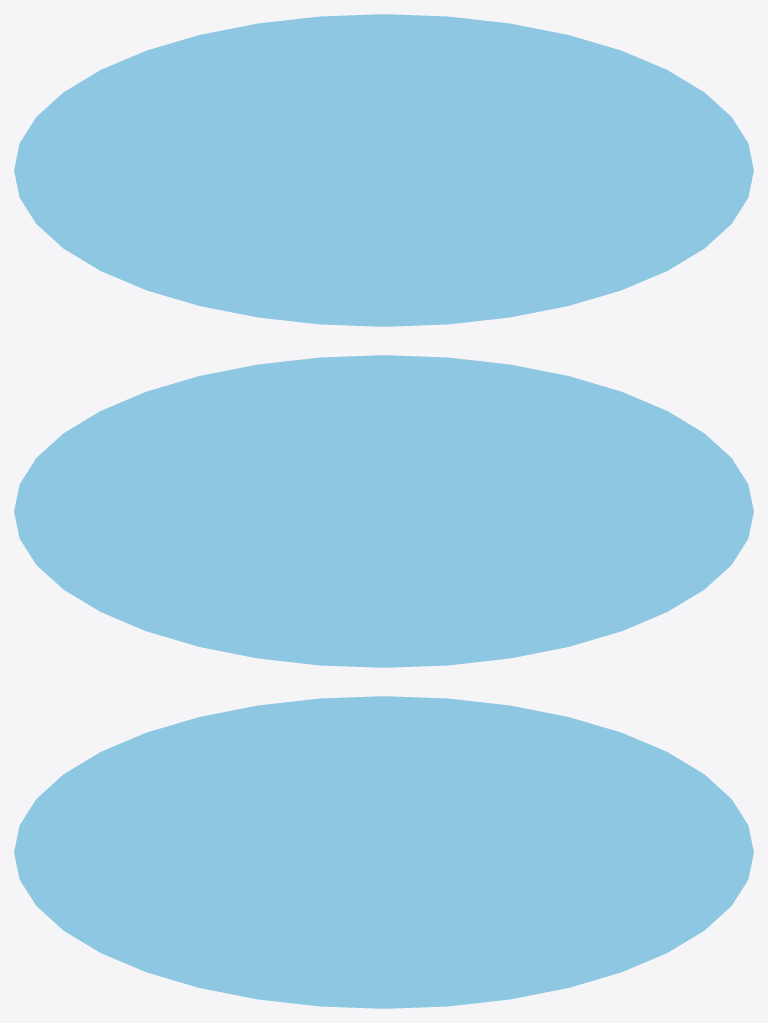
File: 淡蓝色面片.FBX
3 views of the same model, one above another, from view 1: azimuth 30°, elevation 25°; view 2: azimuth 150°, elevation 25°; view 3: azimuth 270°, elevation 25° (orthographic).
Parts seen in each view (by area): view 1: 对象171; view 2: 对象171; view 3: 对象171.
Part boxes in pixels (<box>): 对象171: <box>14,14,753,326</box>; 对象171: <box>14,355,753,667</box>; 对象171: <box>14,696,753,1008</box>.
Bounding box in the file's own units: 20 × 1.78e-15 × 20.
